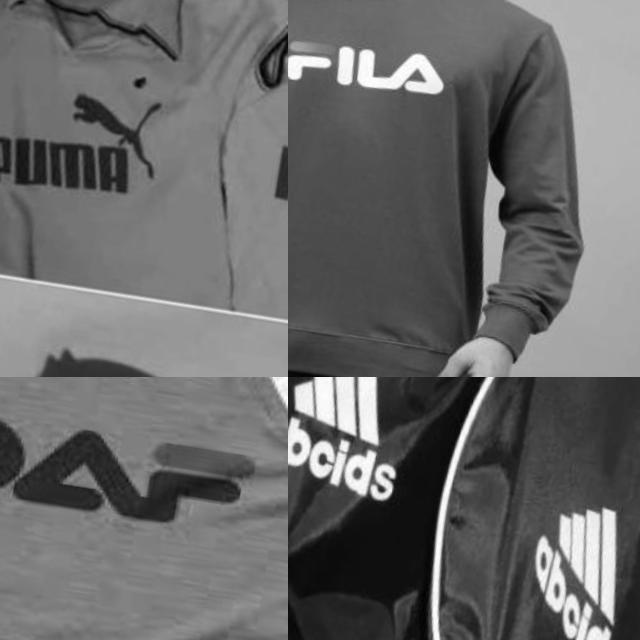ADIDAS_fake: (495, 437, 640, 640), (288, 377, 426, 518)
FILA_fake: (0, 380, 283, 550)
FILA_original: (288, 0, 467, 126)
PUMA_fake: (0, 39, 190, 237), (0, 282, 288, 377)
